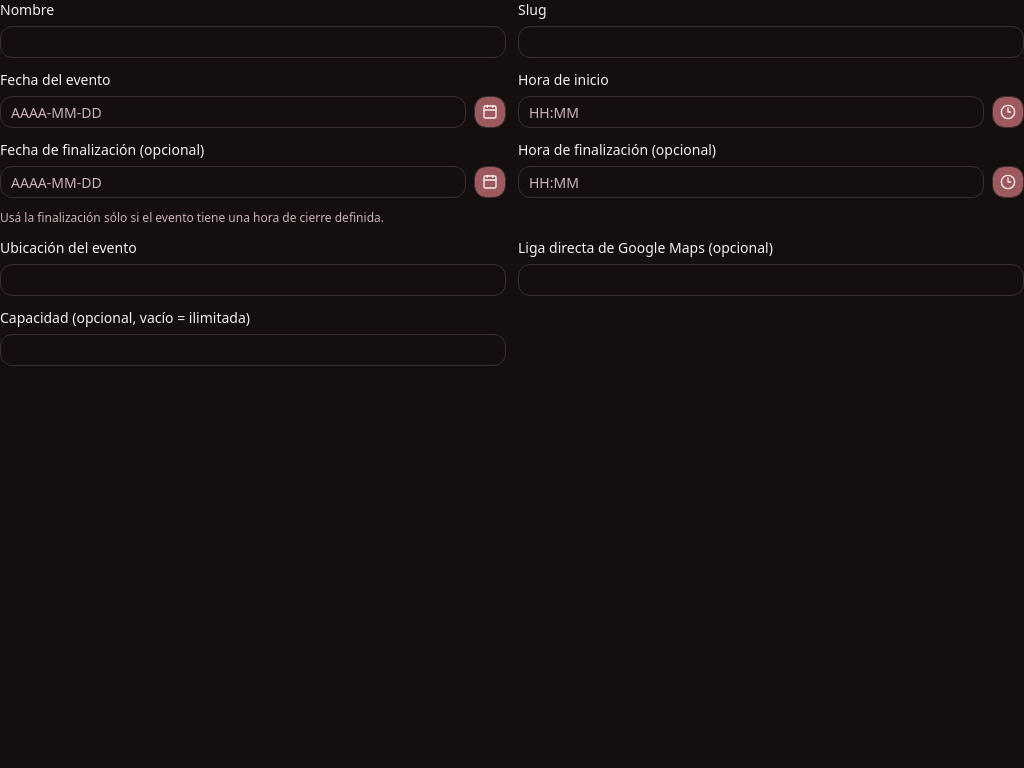
Test case: EventBasicFields date and time controls › renders all half-hour choices when a time selector opens
Click the button named "Seleccionar hora de inicio": (1008, 112) [992, 96, 1023, 128]
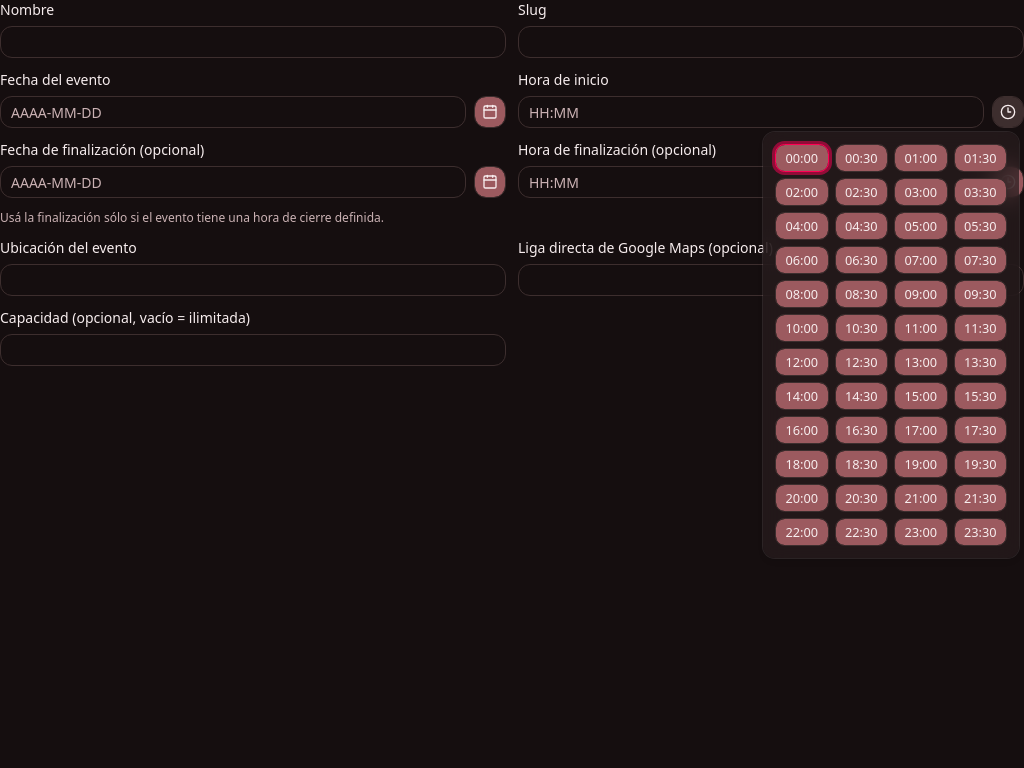
Expected: the text "00:00" is shown, [775, 144, 828, 172]
Expected: the text "23:30" is shown, [954, 518, 1007, 546]
